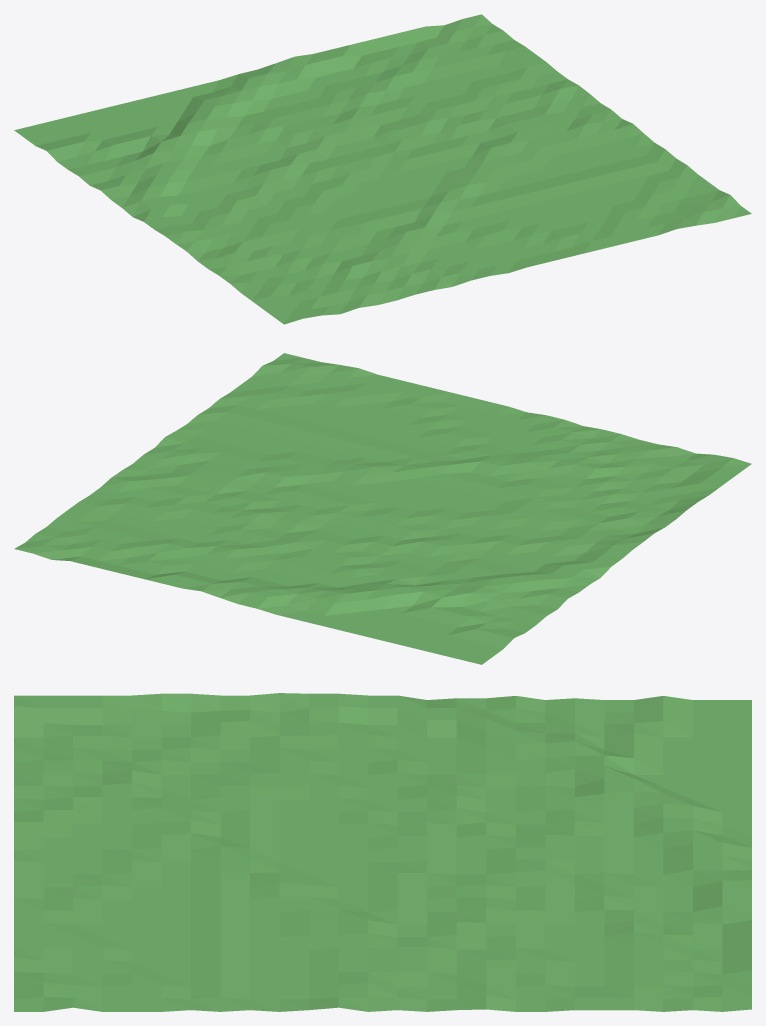
File: testSkogTerrain.fbx
3 renders of one model, top to bottom at view 1: azimuth 30°, elevation 25°; view 2: azimuth 150°, elevation 25°; view 3: azimuth 270°, elevation 25°, orthographic. The views are drawn at different scales.
Parts seen in each view (by area): view 1: Plane_1; view 2: Plane_1; view 3: Plane_1.
Part boxes in pixels (<box>): Plane_1: <box>14,14,751,324</box>; Plane_1: <box>14,353,751,664</box>; Plane_1: <box>14,693,751,1011</box>.
Bounding box in the file's own units: 10000 × 132 × 10000.
